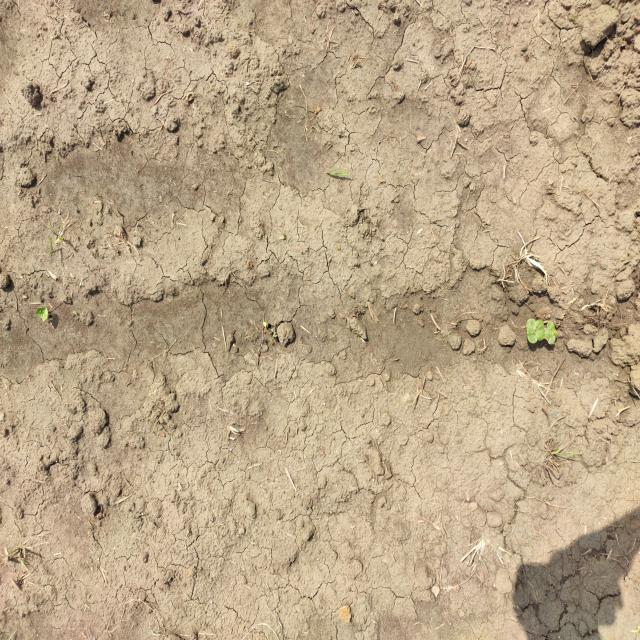seedling: (527, 318, 537, 344), (544, 327, 556, 345), (536, 319, 545, 341), (547, 321, 557, 338), (35, 307, 45, 318), (42, 308, 48, 323)
